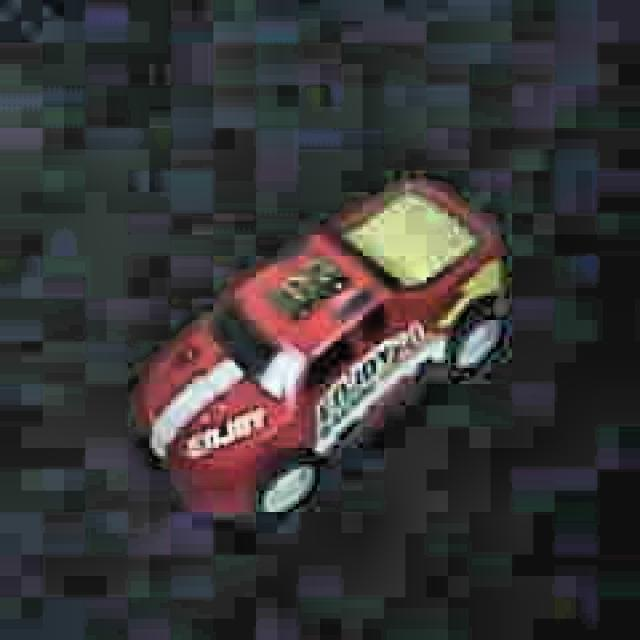car: (132, 170, 517, 522)
